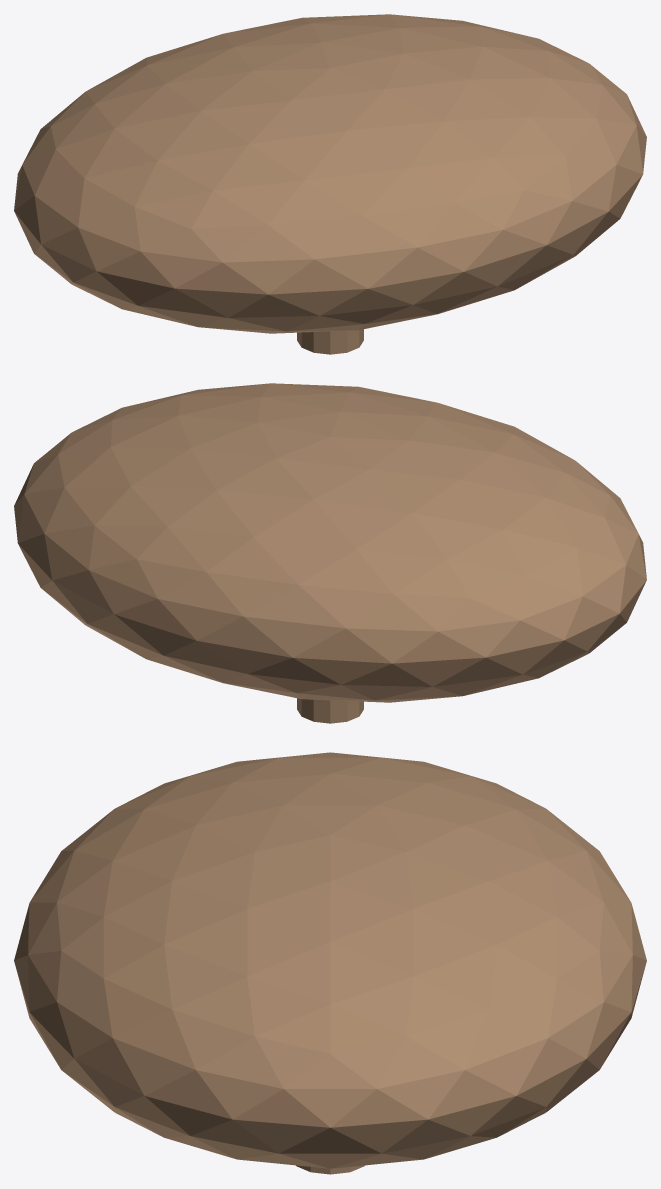
Rendered from Tree_5.glb.
The picture shows the model from 3 angles, top to bottom: view 1: azimuth 30°, elevation 25°; view 2: azimuth 150°, elevation 25°; view 3: azimuth 270°, elevation 25°; orthographic projection. The views are drawn at different scales.
Parts seen in each view (by area): view 1: Tree_5; view 2: Tree_5; view 3: Tree_5.
Part boxes in pixels (bbox=[...]): Tree_5: bbox=[14, 14, 646, 354]; Tree_5: bbox=[14, 383, 646, 723]; Tree_5: bbox=[14, 752, 646, 1174].
Size of the model in its own units: 4 by 1.8 by 3.2.
